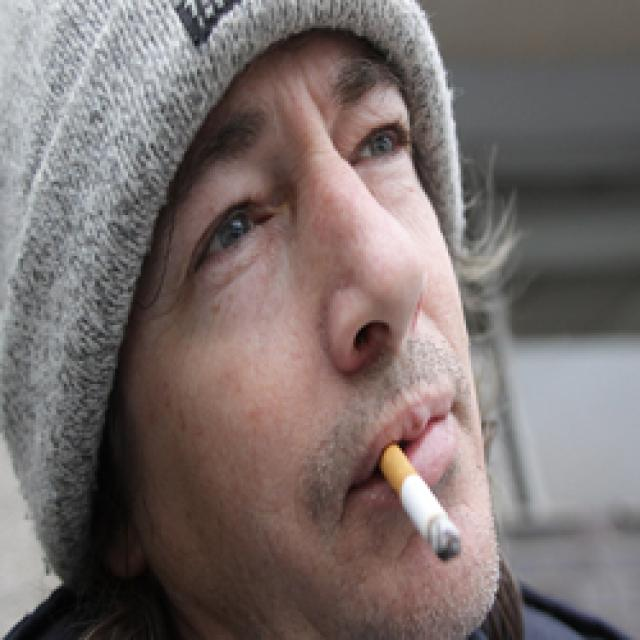Smooking: (373, 432, 478, 570)
